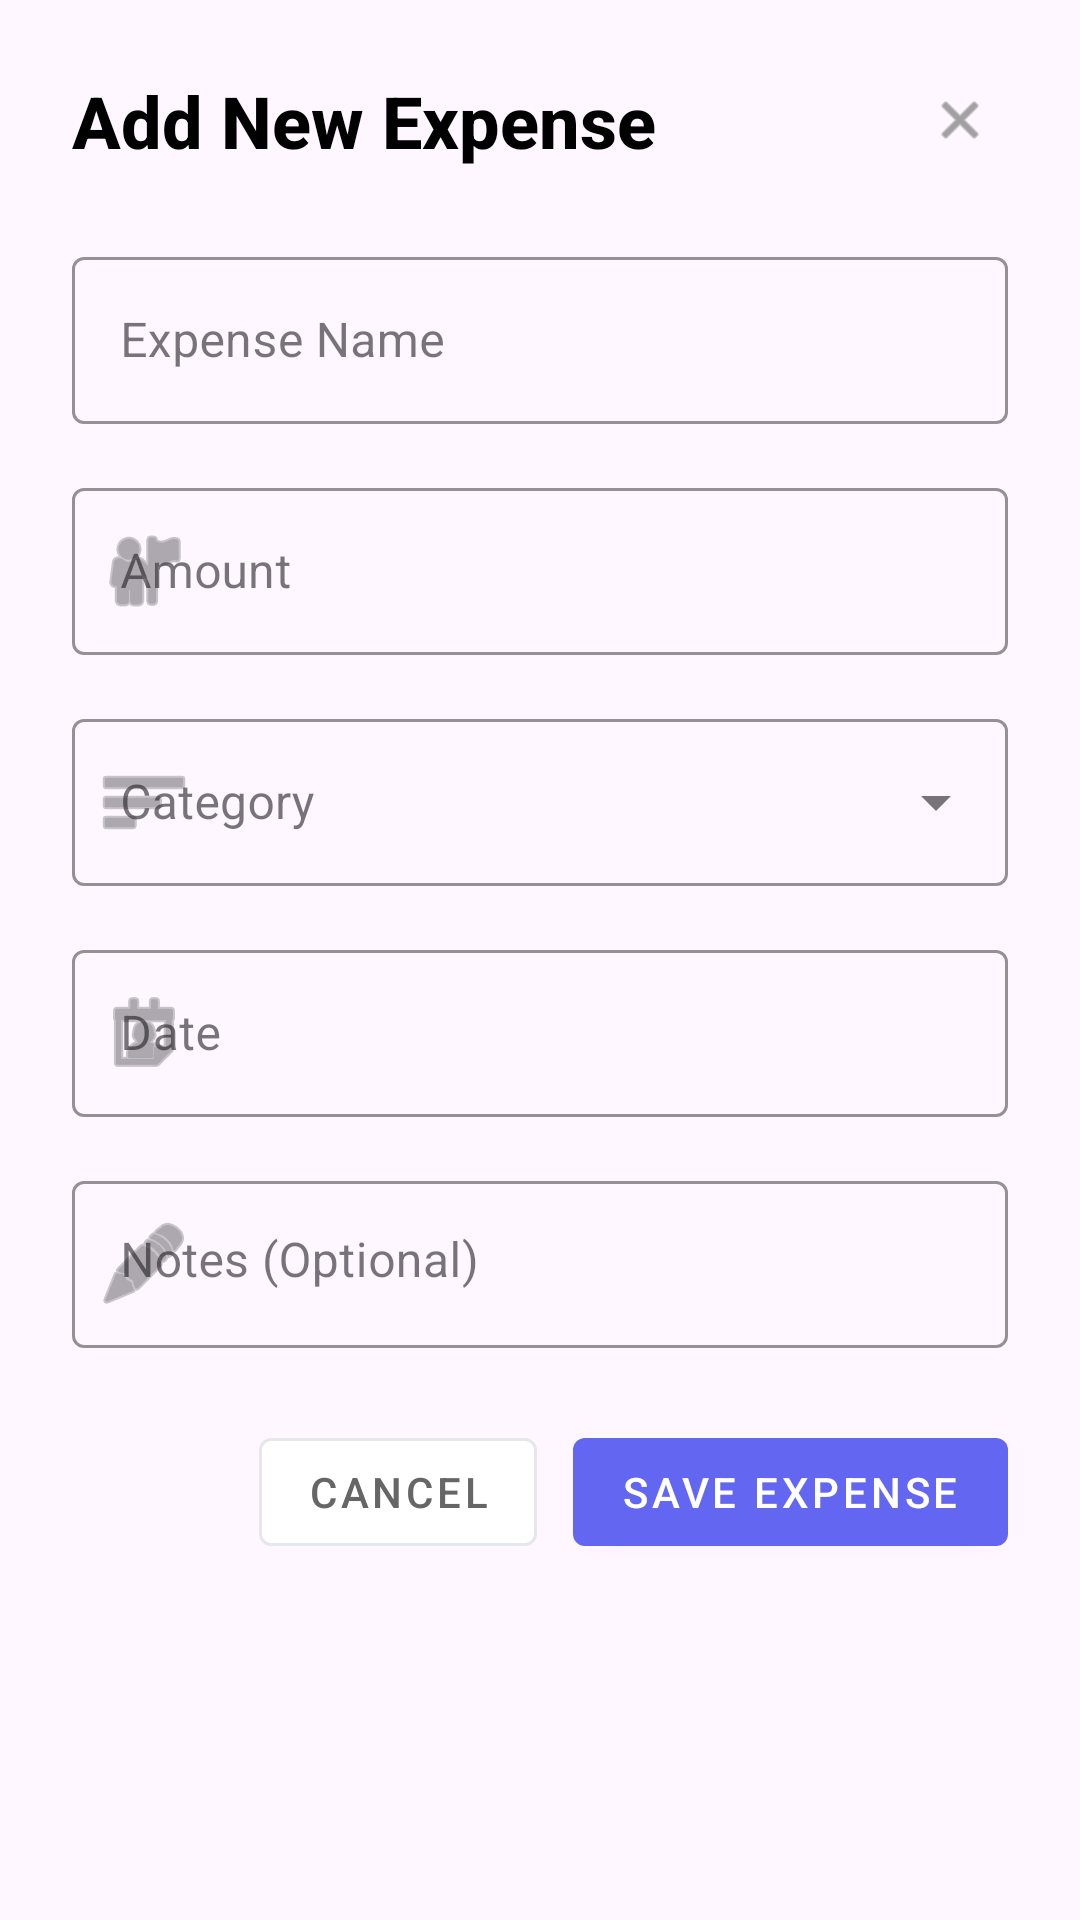

Screen size 1080 × 1920. Icon name, then its box in pixels as [x1, y1, x2, y2]:
close clear cancel: [941, 101, 979, 139]
